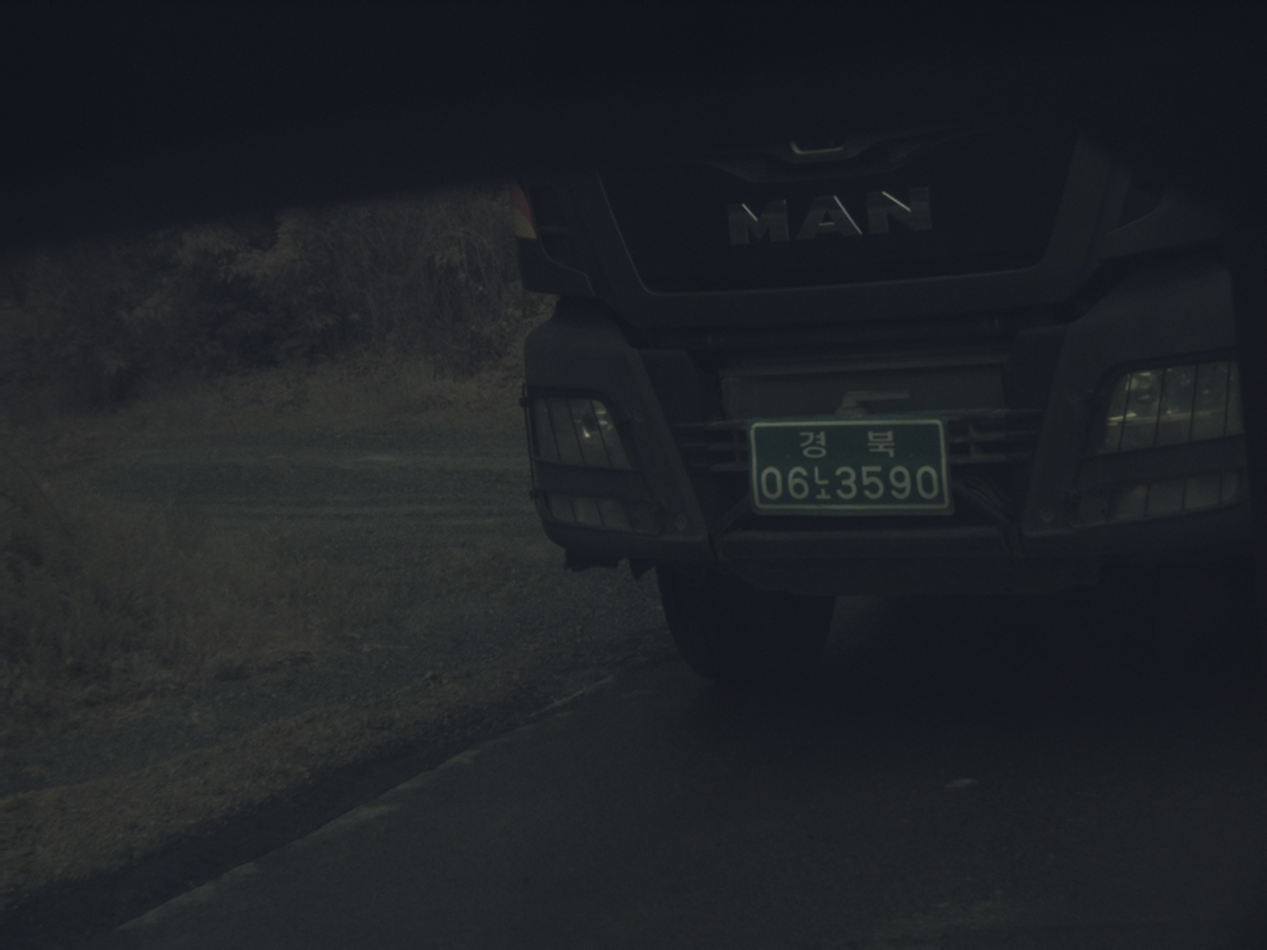license_plate: (750, 417, 950, 512)
truck: (515, 122, 1250, 679)
